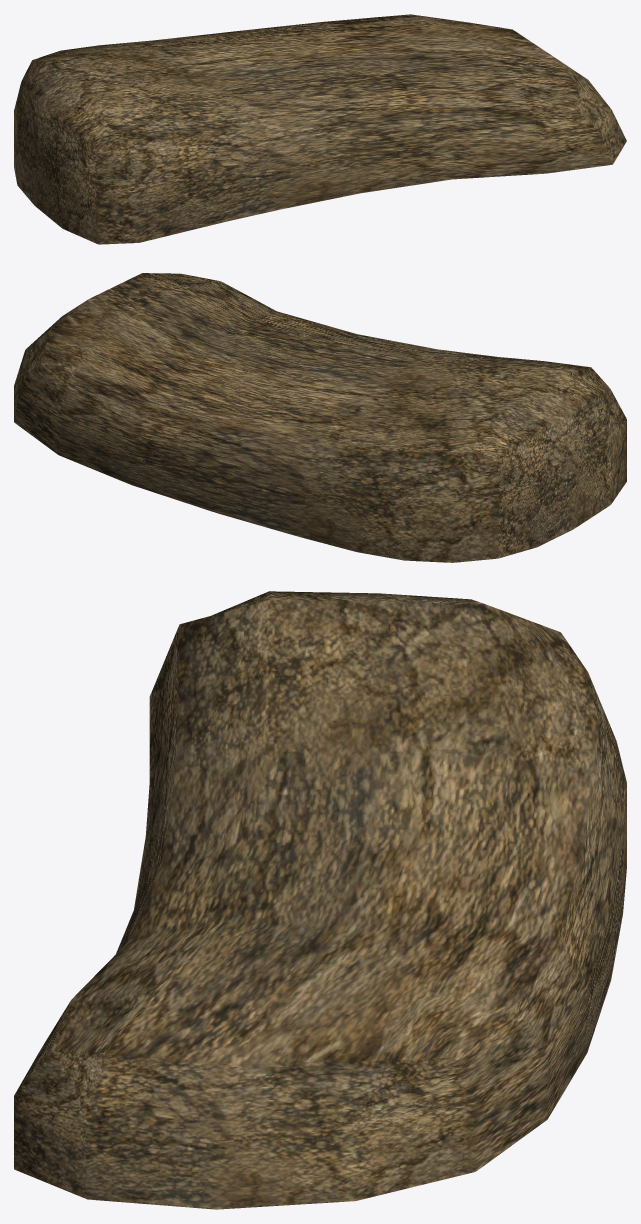
File: CH09_SMAUG_PLAYSURFACE_LONELYMOUNTAIN_LM-STAIRS02.fbx
3 views of the same model, one above another, from view 1: azimuth 30°, elevation 25°; view 2: azimuth 150°, elevation 25°; view 3: azimuth 270°, elevation 25° (orthographic). The views are drawn at different scales.
Visible parts, largest first — view 1: CH09_SMAUG_PLAYSURFACE_LONELYMOUNTAIN_LM-STAIRS02; view 2: CH09_SMAUG_PLAYSURFACE_LONELYMOUNTAIN_LM-STAIRS02; view 3: CH09_SMAUG_PLAYSURFACE_LONELYMOUNTAIN_LM-STAIRS02.
Part boxes in pixels (bbox=[...]): CH09_SMAUG_PLAYSURFACE_LONELYMOUNTAIN_LM-STAIRS02: bbox=[14, 14, 626, 244]; CH09_SMAUG_PLAYSURFACE_LONELYMOUNTAIN_LM-STAIRS02: bbox=[14, 273, 626, 562]; CH09_SMAUG_PLAYSURFACE_LONELYMOUNTAIN_LM-STAIRS02: bbox=[14, 591, 626, 1209].
Size of the model in its own units: 142605 by 28327 by 81487.
1 material, 1 textured.
